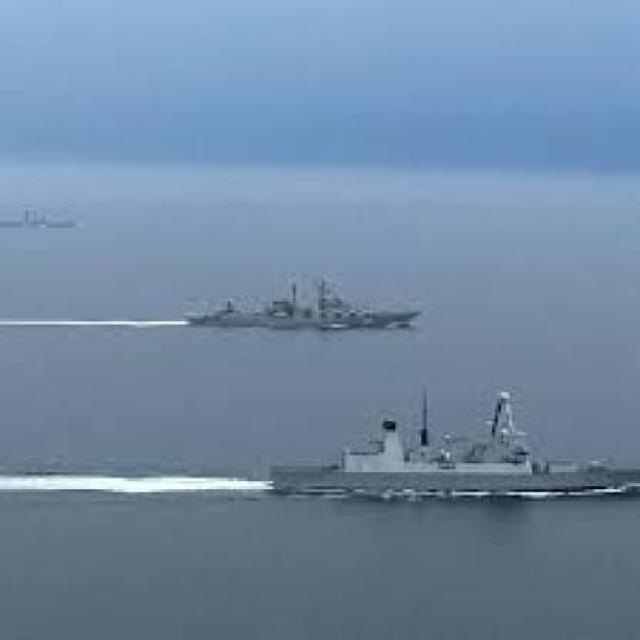warship2: (237, 388, 639, 529), (183, 266, 428, 337), (1, 187, 87, 238)
